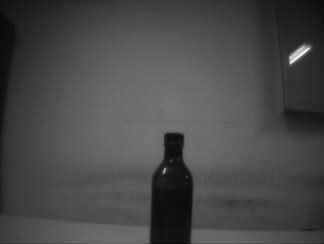Bottle: (149, 132, 192, 244)
